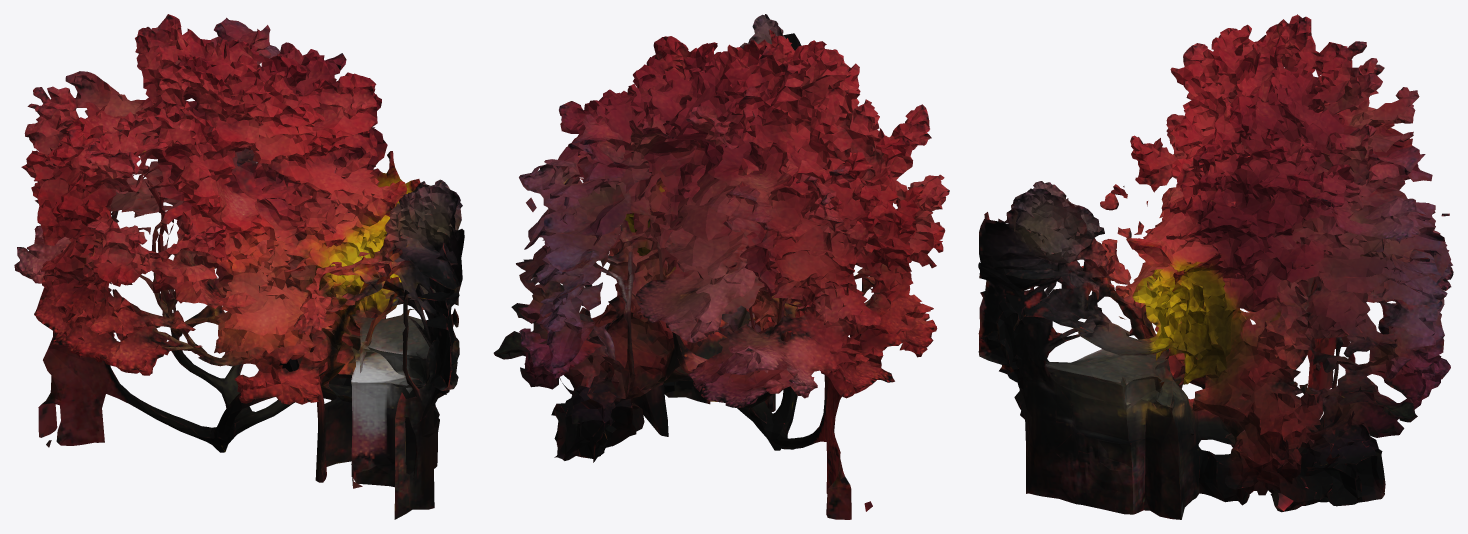
File: Acer rubrum.glb
3 renders of one model, left to right at view 1: azimuth 30°, elevation 25°; view 2: azimuth 150°, elevation 25°; view 3: azimuth 270°, elevation 25°, orthographic. The views are drawn at different scales.
Parts seen in each view (by area): view 1: world; view 2: world; view 3: world.
Boxes of the visible parts, x1,y1,x2,y2 form: world: [14, 14, 464, 519]; world: [493, 14, 949, 519]; world: [978, 14, 1453, 519].
Size of the model in its own units: 0.8383 by 0.9849 by 0.9996.
Materials: 1 (1 with a texture image).
